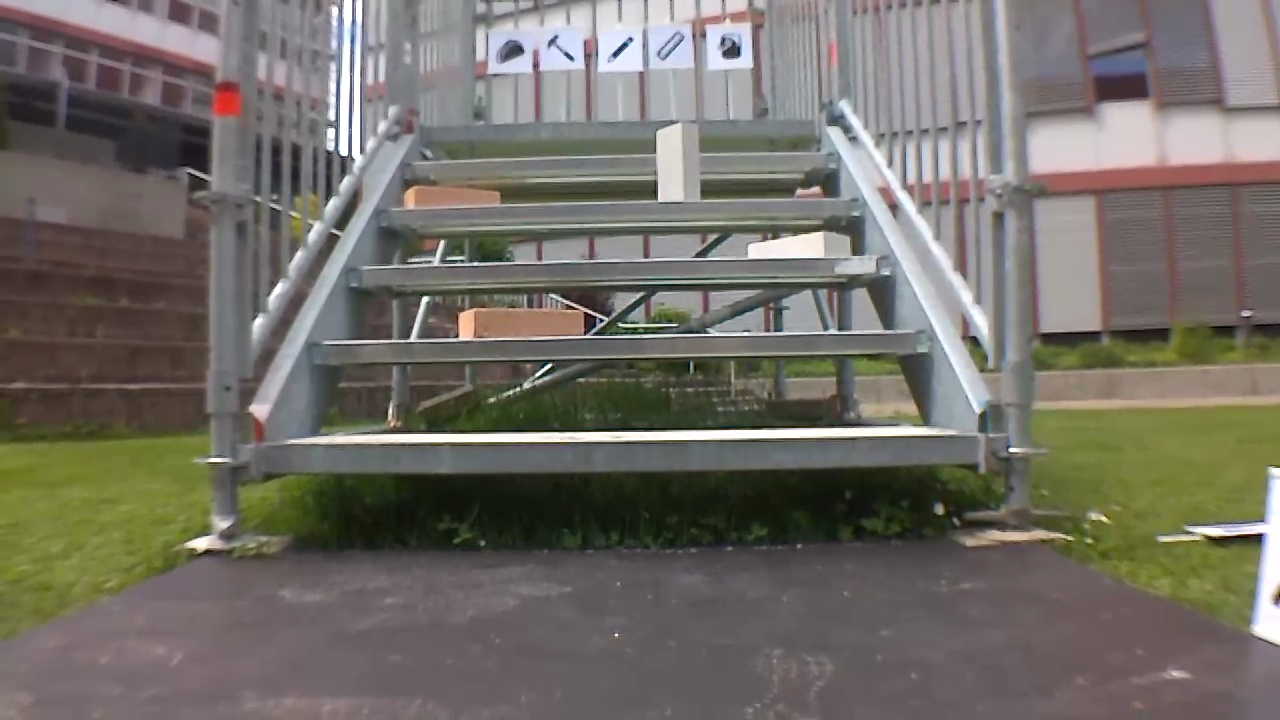brick: (458, 306, 583, 337), (658, 123, 700, 202), (746, 232, 850, 256), (404, 186, 498, 208)
bucket: (710, 28, 745, 65)
edge: (265, 433, 980, 474), (311, 330, 931, 358), (346, 256, 899, 282), (379, 197, 860, 223), (406, 153, 836, 175), (422, 118, 822, 140)
hammer: (539, 30, 579, 65)
pencil: (601, 33, 636, 66)
ruler: (654, 26, 689, 64)
stairs: (182, 2, 1061, 537)
steps: (257, 113, 984, 489)
taco: (491, 34, 527, 70)
